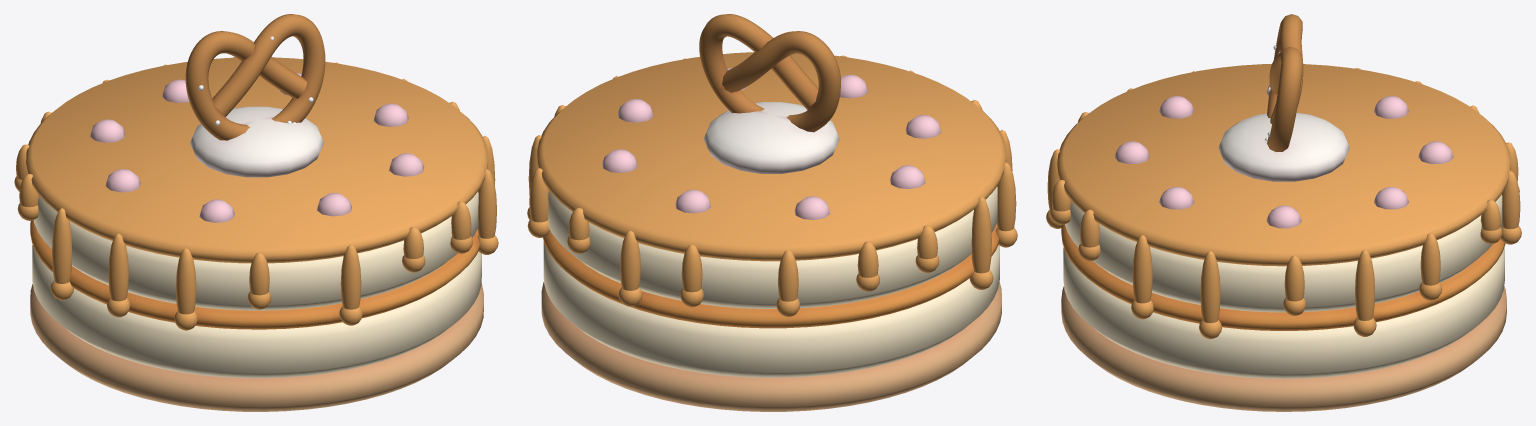
The model's file is pretzelfull.glb.
The picture shows the model from 3 angles, left to right: view 1: azimuth 30°, elevation 25°; view 2: azimuth 150°, elevation 25°; view 3: azimuth 270°, elevation 25°; orthographic projection. The views are drawn at different scales.
Visible parts, largest first — view 1: ceda95e, cfff0cf, biscuit, pretzel_dough, caramel, cream, cf9cdd9; view 2: ceda95e, cfff0cf, biscuit, pretzel_dough, caramel, cream, cf9cdd9; view 3: ceda95e, cfff0cf, biscuit, caramel, cream, cf9cdd9, pretzel_dough.
Part boxes in pixels (x1=…): ceda95e: x1=14, y1=57, x2=498, y2=330; cfff0cf: x1=32, y1=192, x2=481, y2=378; biscuit: x1=30, y1=284, x2=483, y2=411; pretzel_dough: x1=185, y1=14, x2=325, y2=140; caramel: x1=30, y1=220, x2=479, y2=329; cream: x1=190, y1=106, x2=323, y2=177; cf9cdd9: x1=90, y1=73, x2=424, y2=222; ceda95e: x1=527, y1=52, x2=1017, y2=316; cfff0cf: x1=543, y1=186, x2=999, y2=377; biscuit: x1=541, y1=282, x2=1001, y2=411; pretzel_dough: x1=699, y1=14, x2=840, y2=132; caramel: x1=542, y1=224, x2=998, y2=328; cream: x1=703, y1=102, x2=839, y2=173; cf9cdd9: x1=602, y1=68, x2=941, y2=219; ceda95e: x1=1046, y1=64, x2=1521, y2=339; cfff0cf: x1=1063, y1=194, x2=1504, y2=378; biscuit: x1=1061, y1=286, x2=1506, y2=411; caramel: x1=1061, y1=224, x2=1505, y2=330; cream: x1=1218, y1=112, x2=1349, y2=181; cf9cdd9: x1=1114, y1=85, x2=1453, y2=228; pretzel_dough: x1=1267, y1=14, x2=1303, y2=151.
Bounding box in the file's own units: 0.9449 × 0.6283 × 0.9402.
